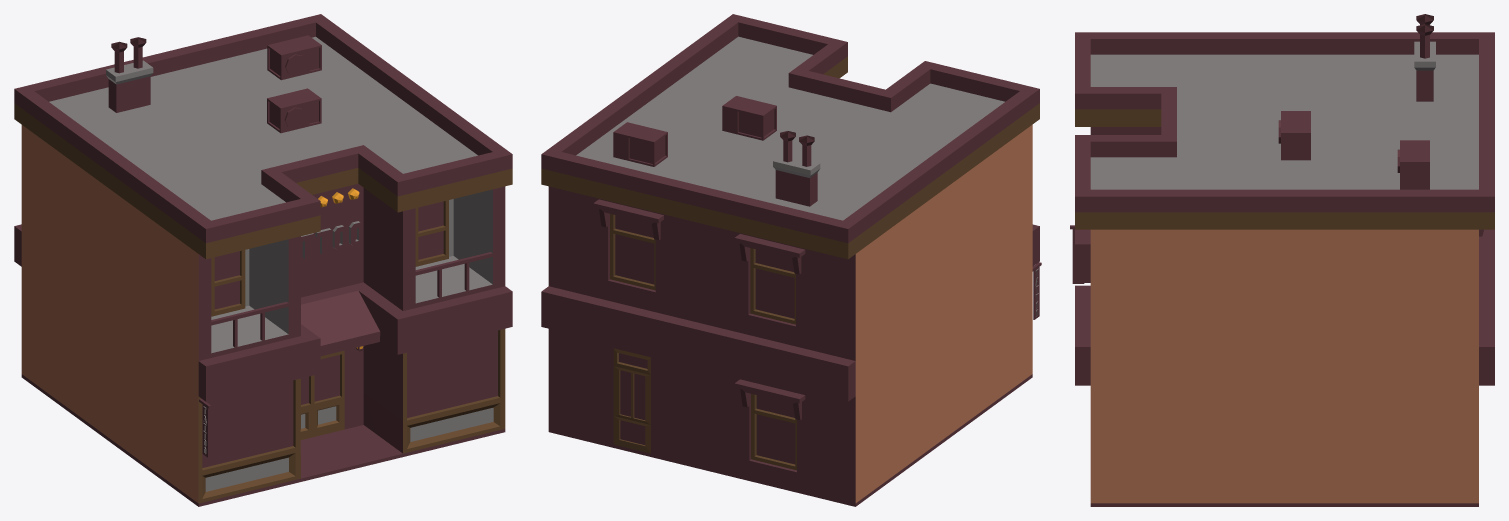
Rendered from buildings-building-tattoo.glb.
3 renders of one model, left to right at view 1: azimuth 30°, elevation 25°; view 2: azimuth 150°, elevation 25°; view 3: azimuth 270°, elevation 25°, orthographic. The views are drawn at different scales.
Parts seen in each view (by area): view 1: building-tattoo; view 2: building-tattoo; view 3: building-tattoo.
Part boxes in pixels (<box>): building-tattoo: <box>14,14,512,506</box>; building-tattoo: <box>541,14,1041,506</box>; building-tattoo: <box>1070,14,1494,506</box>.
Bounding box in the file's own units: 9 × 9.38 × 9.85.
